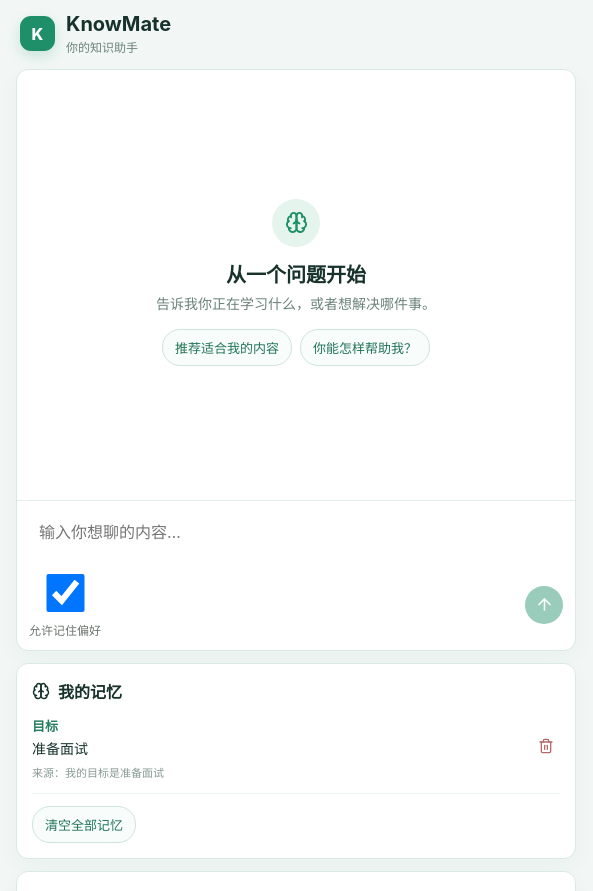
Test: WeChatChatPage › shows a network error when sending fails
Type "你好" into the text box named "输入消息" at (296, 539), box [29,511,563,567]
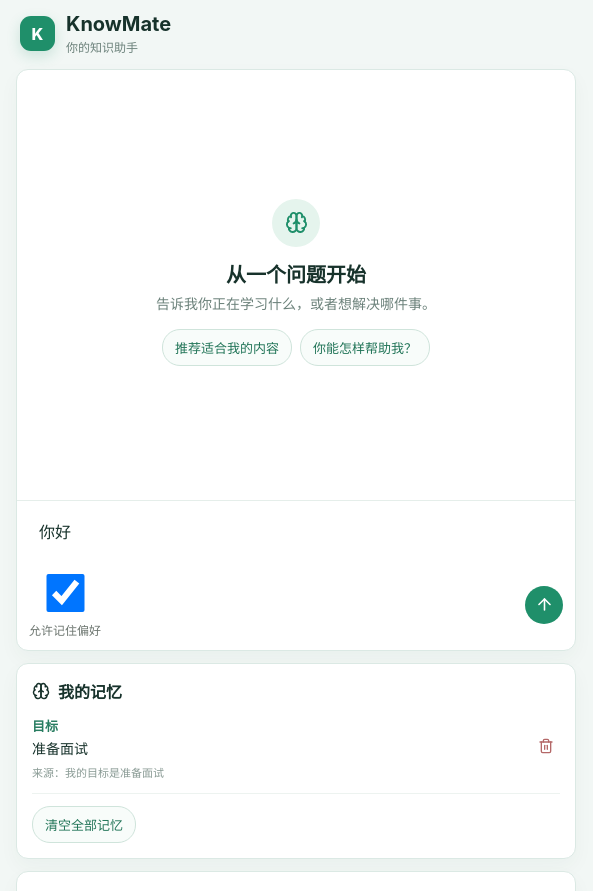
Click the button named "发送" at (544, 604), box [525,586,563,624]
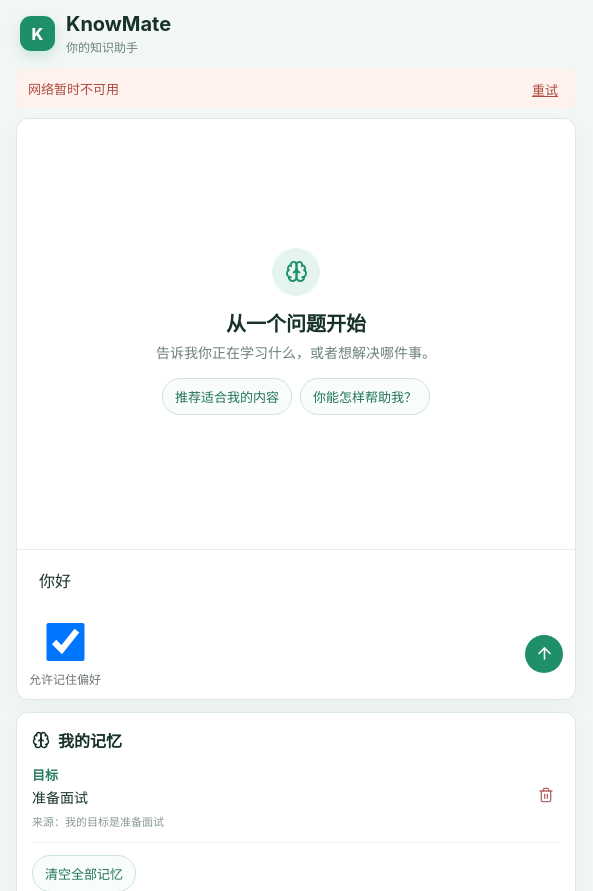
Result: the message shows "网络暂时不可用" at [28,81,119,97]
